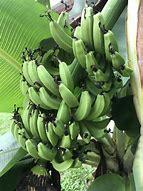banana: (8, 12, 125, 165)
